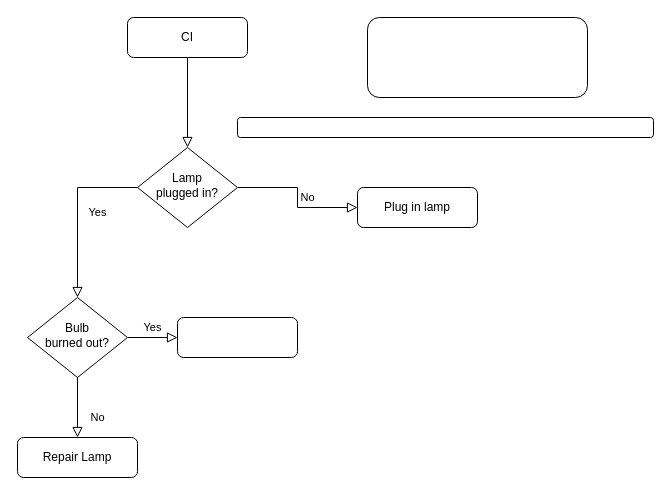
This 671x495 diagram has some shape labels left out. Each missing label, with the centre of its shape:
"cantidadDeDigitos <- max(longitud(num1),longitud(num2))" goes at (445,127).
"Replace Bulb" goes at (237,337).
